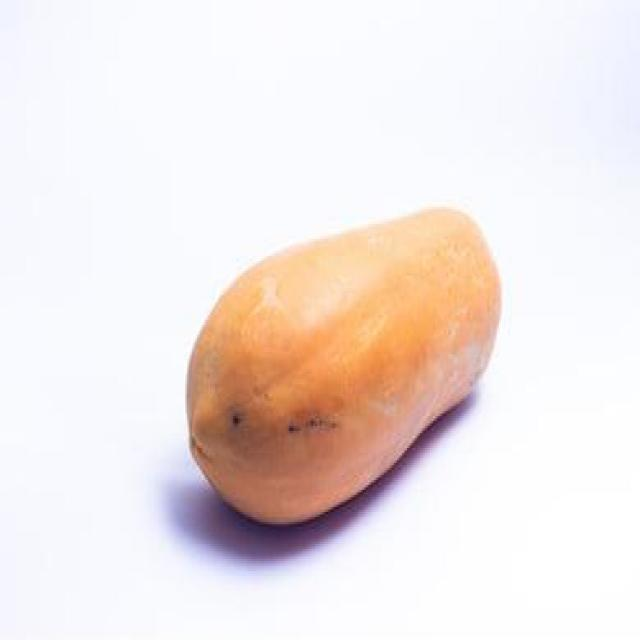Pepaya rippen: (175, 199, 502, 538)
